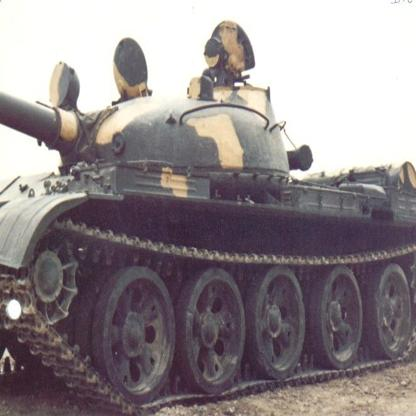Tank: (4, 17, 416, 416)
